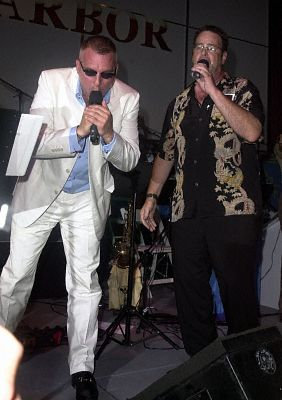37: (71, 42, 119, 109)
52: (187, 24, 226, 82)
Coat: (7, 66, 143, 246)
Glasses: (75, 57, 120, 82), (188, 39, 227, 55)
Male: (71, 42, 119, 109), (187, 24, 226, 82)
Pants: (1, 189, 120, 378), (165, 211, 269, 358)
Shirt: (156, 75, 267, 224), (60, 73, 121, 196)
Shoes: (67, 370, 101, 400)
Watch: (144, 190, 162, 203)
